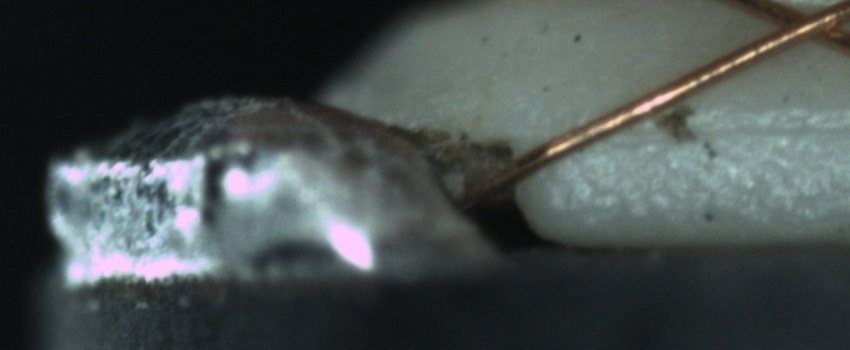CL: (750, 1, 847, 54)
DL: (614, 99, 845, 161)
